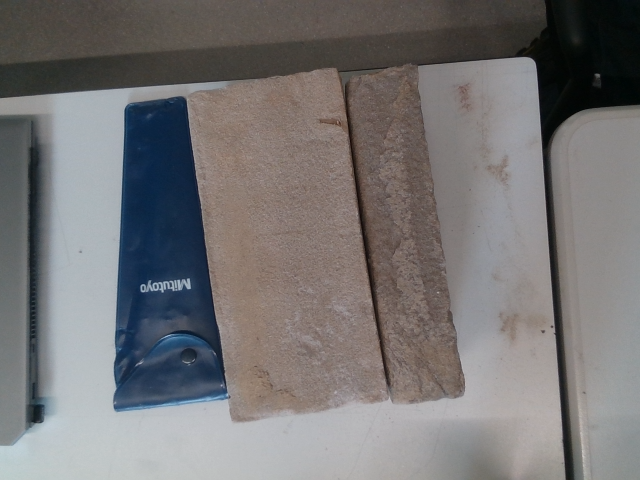brick: (187, 71, 385, 419)
